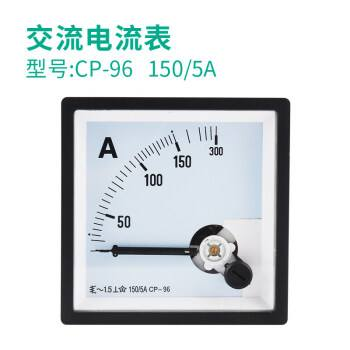pointer: (74, 109, 276, 312)
